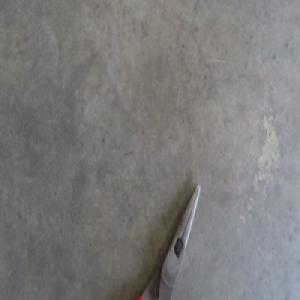Pliers: (139, 182, 201, 298)
